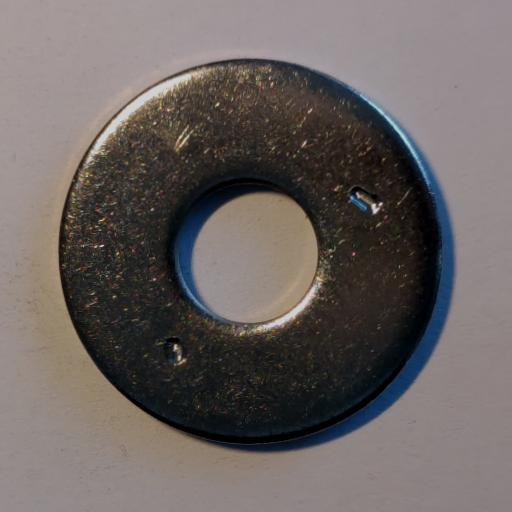circular_cavity: (347, 186, 384, 217), (162, 338, 188, 366)
